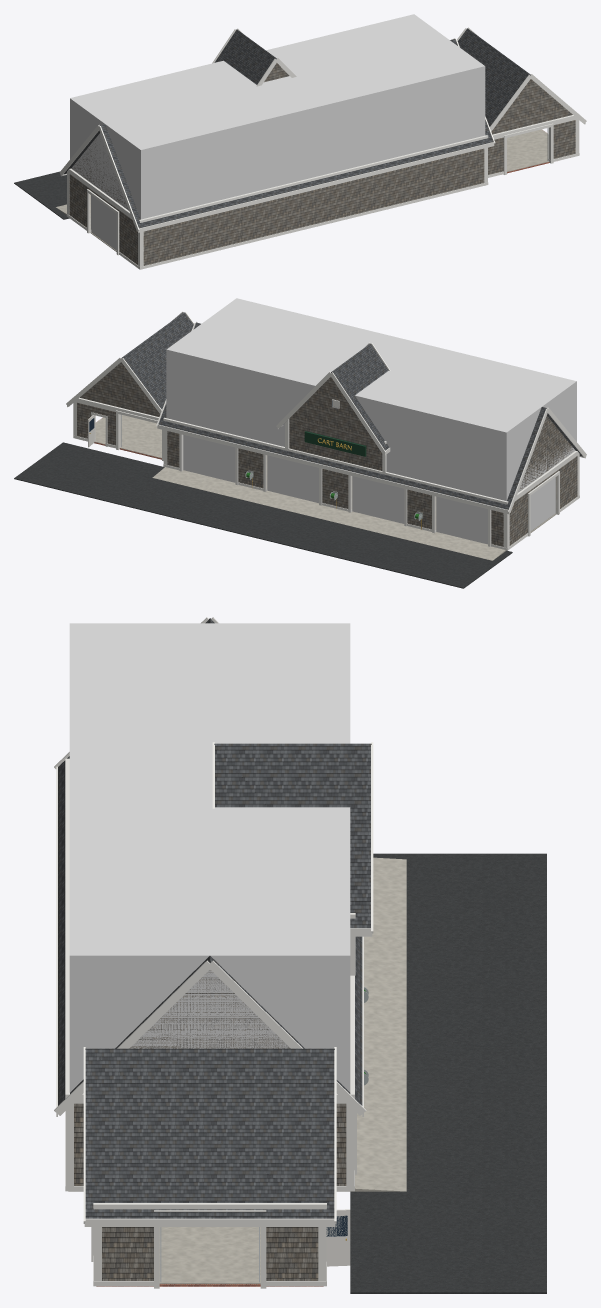
Rendered from cart_barn_l3.gltf.
3 renders of one model, top to bottom at view 1: azimuth 30°, elevation 25°; view 2: azimuth 150°, elevation 25°; view 3: azimuth 270°, elevation 25°, orthographic. The views are drawn at different scales.
Parts seen in each view (by area): view 1: COL_barn0.002, WALLS_HIGH.002, ROOF.002, BASE.002; view 2: COL_barn0.002, BASE.002, ROOF.002, WALLS_HIGH.002; view 3: COL_barn0.002, BASE.002, ROOF.002, WALLS_HIGH.002.
Boxes of the visible parts, <box> form: COL_barn0.002: <box>70,14,485,250</box>; WALLS_HIGH.002: <box>67,114,579,255</box>; ROOF.002: <box>59,27,586,232</box>; BASE.002: <box>14,129,579,269</box>; COL_barn0.002: <box>166,298,576,544</box>; BASE.002: <box>14,415,579,588</box>; ROOF.002: <box>66,311,586,514</box>; WALLS_HIGH.002: <box>73,397,579,546</box>; COL_barn0.002: <box>69,623,350,1092</box>; BASE.002: <box>65,853,546,1293</box>; ROOF.002: <box>54,617,373,1226</box>; WALLS_HIGH.002: <box>65,758,368,1288</box>.
Size of the model in its own units: 37.07 by 11.17 by 17.56.
Materials: 20 (6 with a texture image).
